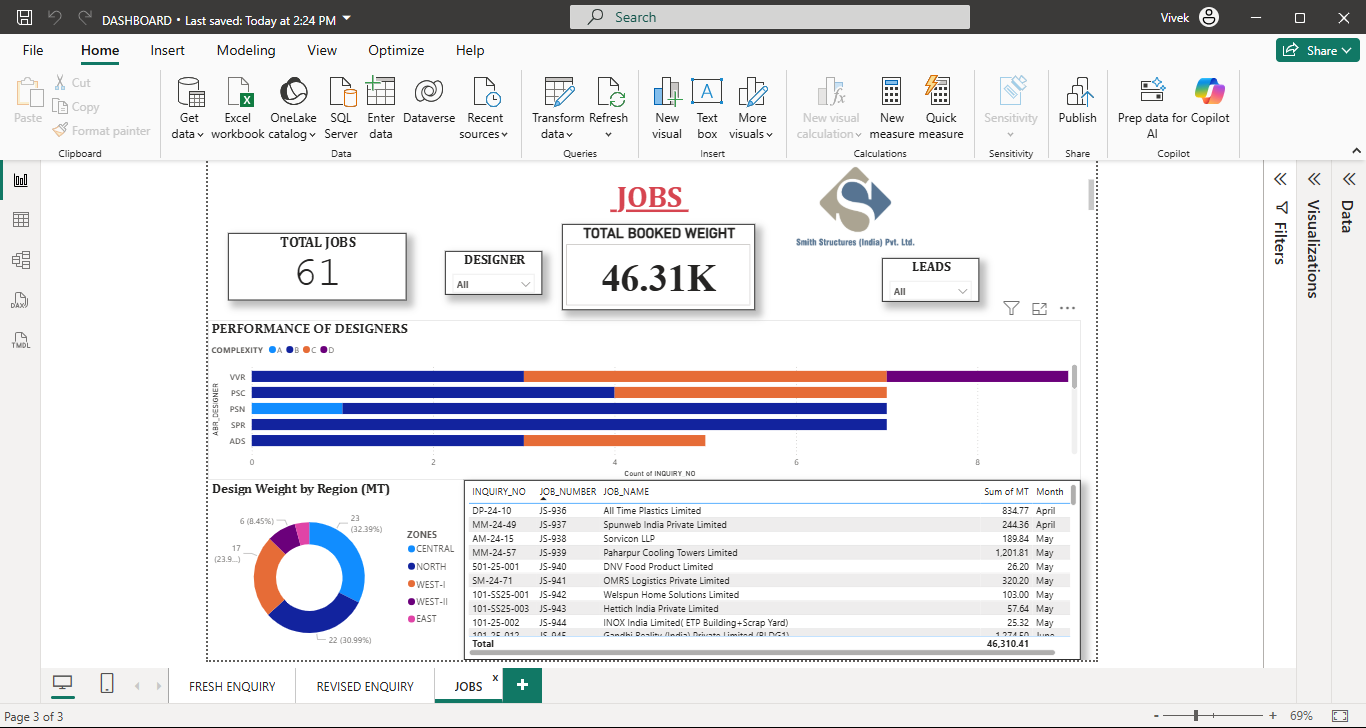

What the dashboard file says about the page in this screenshot:
{"tool":"powerbi","page":{"name":"JOBS","canvas":[1280,720],"ordinal":2},"visuals":[{"type":"barChart","title":"PERFORMANCE OF DESIGNERS","fields":{"Category":["JOBS.ABR_DESIGNER"],"Y":["CountNonNull(JOBS.INQUIRY_NO)"],"Series":["JOBS.COMPLEXITY"]},"box":[0,229.9,1256.7,231.3],"z":0},{"type":"donutChart","title":"Design Weight by Region (MT)","fields":{"Category":["JOBS.ZONES"],"Y":["CountNonNull(JOBS.ZONES)"]},"box":[0,460.8,368.6,259.2],"z":1000},{"type":"slicer","title":"DESIGNER","fields":{"Values":["JOBS.ABR_DESIGNER"]},"box":[341.7,131.7,140,63.3],"z":3000},{"type":"cardVisual","title":"TOTAL BOOKED WEIGHT","fields":{"Data":["Sum(JOBS.MT)"]},"box":[509.8,92.2,277.9,123.8],"z":4000},{"type":"textbox","box":[0,22.4,1280.6,56.7],"z":5000},{"type":"image","box":[837.3,0,192.5,132.8],"z":6000},{"type":"card","title":"TOTAL JOBS","fields":{"Values":["Count(JOBS.INQUIRY_NO)"]},"box":[28.3,105,256.7,96.7],"z":7000},{"type":"slicer","title":"LEADS","fields":{"Values":["JOBS.CHECKED_BY"]},"box":[970,141.4,140,62.9],"z":8000},{"type":"tableEx","fields":{"Values":["JOBS.INQUIRY_NO","JOBS.JOB_NUMBER","JOBS.JOB_NAME","Sum(JOBS.MT)","JOBS.BOOKED_DATE.Variation.Date Hierarchy.Month"]},"box":[368.6,460.8,888.5,259.2],"z":10000}]}

Visuals, with their boxes on the page's 1280x720 design canvas (x1, y1, x2, y2). These are canvas units, not pixel positions in the 1366x728 screenshot, which may show the page scaled, cropped or inside an application window:
"PERFORMANCE OF DESIGNERS" barChart: [0, 230, 1257, 461]
"Design Weight by Region (MT)" donutChart: [0, 461, 369, 720]
"DESIGNER" slicer: [342, 132, 482, 195]
"TOTAL BOOKED WEIGHT" cardVisual: [510, 92, 788, 216]
textbox: [0, 22, 1281, 79]
image: [837, 0, 1030, 133]
"TOTAL JOBS" card: [28, 105, 285, 202]
"LEADS" slicer: [970, 141, 1110, 204]
tableEx - JOBS.INQUIRY_NO x JOBS.JOB_NUMBER: [369, 461, 1257, 720]
